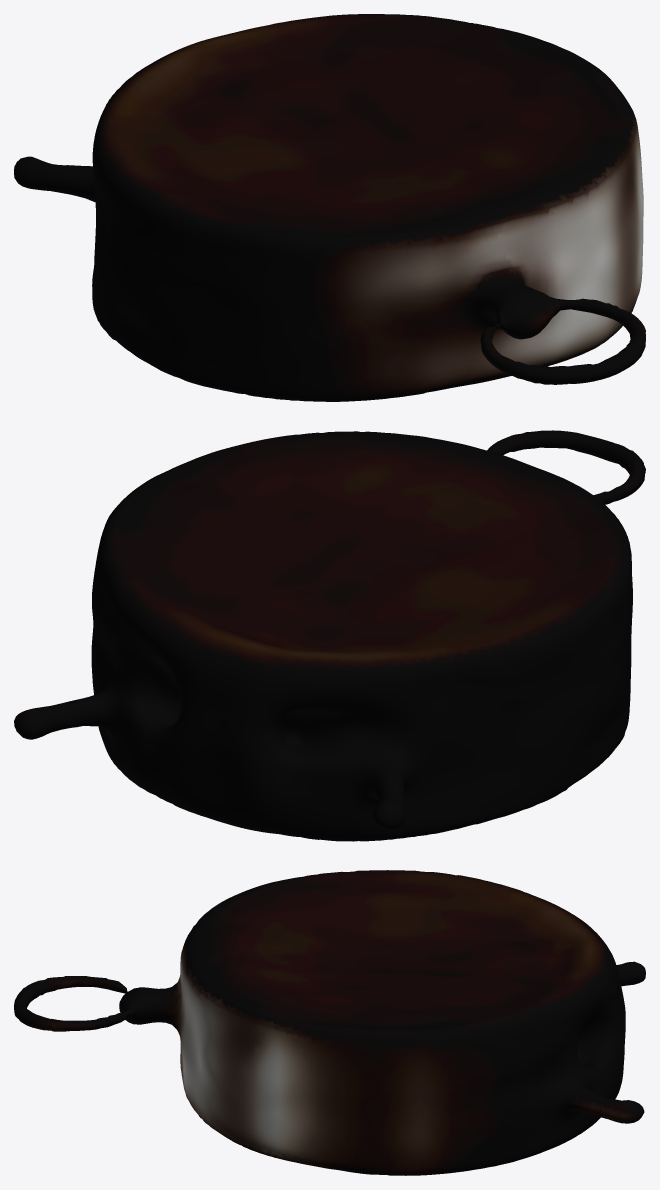
The model's file is alarm.glb.
3 views of the same model, one above another, from view 1: azimuth 30°, elevation 25°; view 2: azimuth 150°, elevation 25°; view 3: azimuth 270°, elevation 25° (orthographic). The views are drawn at different scales.
Size of the model in its own units: 0.6831 by 0.265 by 0.9968.
